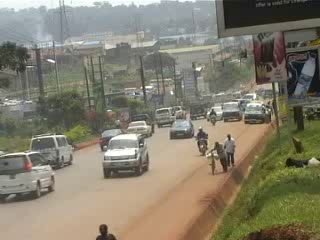Car: (0, 149, 59, 204), (100, 133, 153, 176), (96, 128, 128, 149), (168, 117, 195, 141), (125, 119, 154, 137), (188, 101, 208, 121), (207, 105, 224, 122)
Motorcycle: (193, 125, 211, 156), (206, 104, 220, 126)
